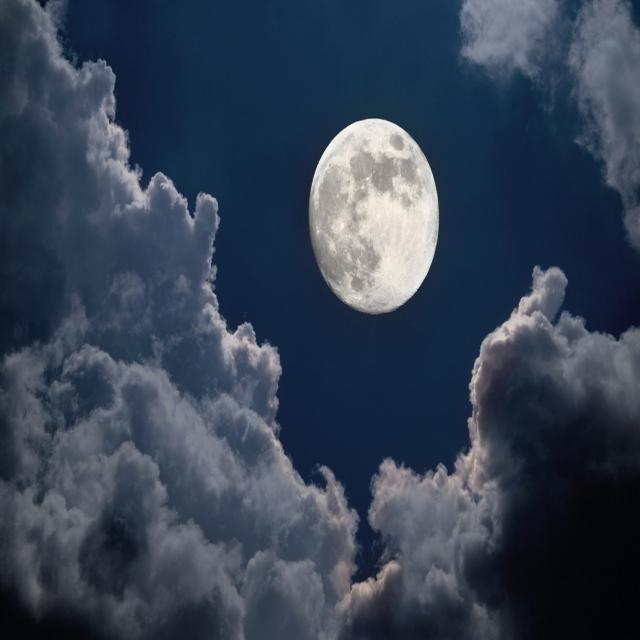moon: (305, 112, 444, 321)
